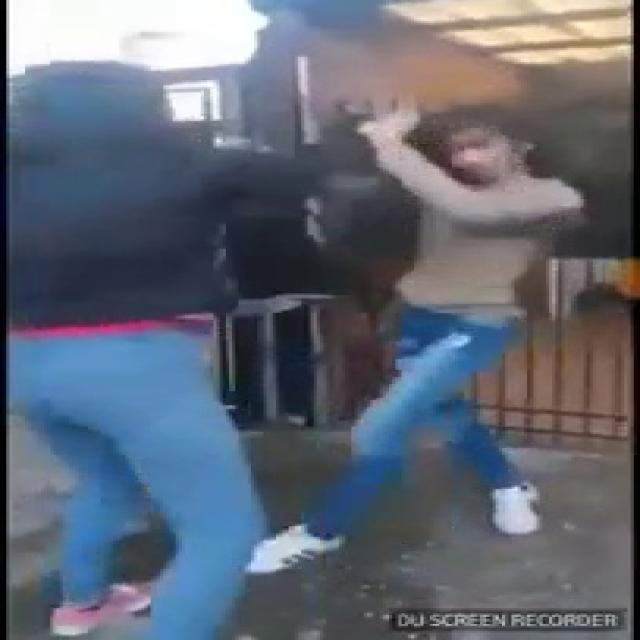Violence: (10, 64, 578, 426)
